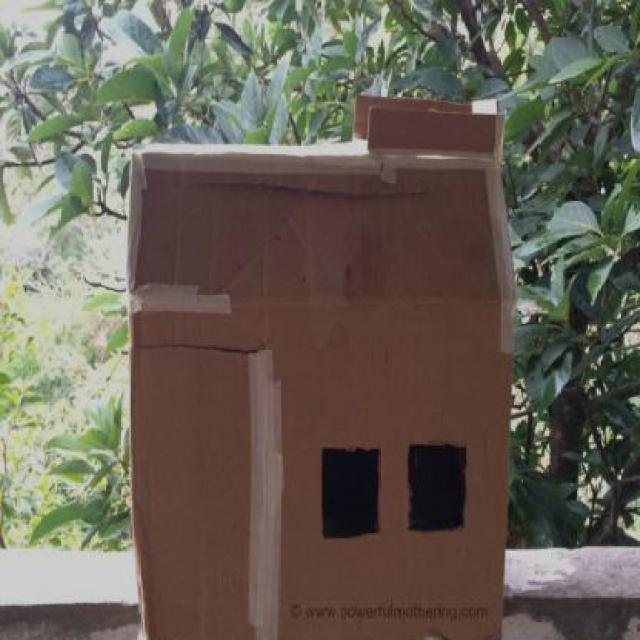box: (101, 78, 538, 640)
